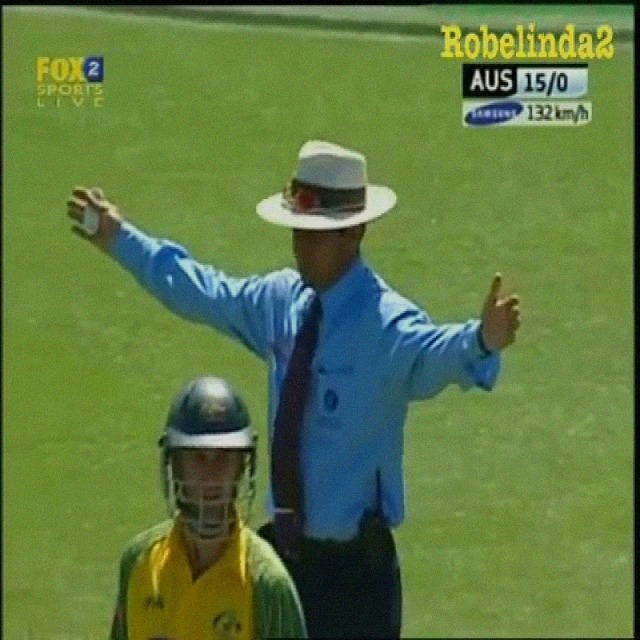Wide: (60, 130, 532, 442)
